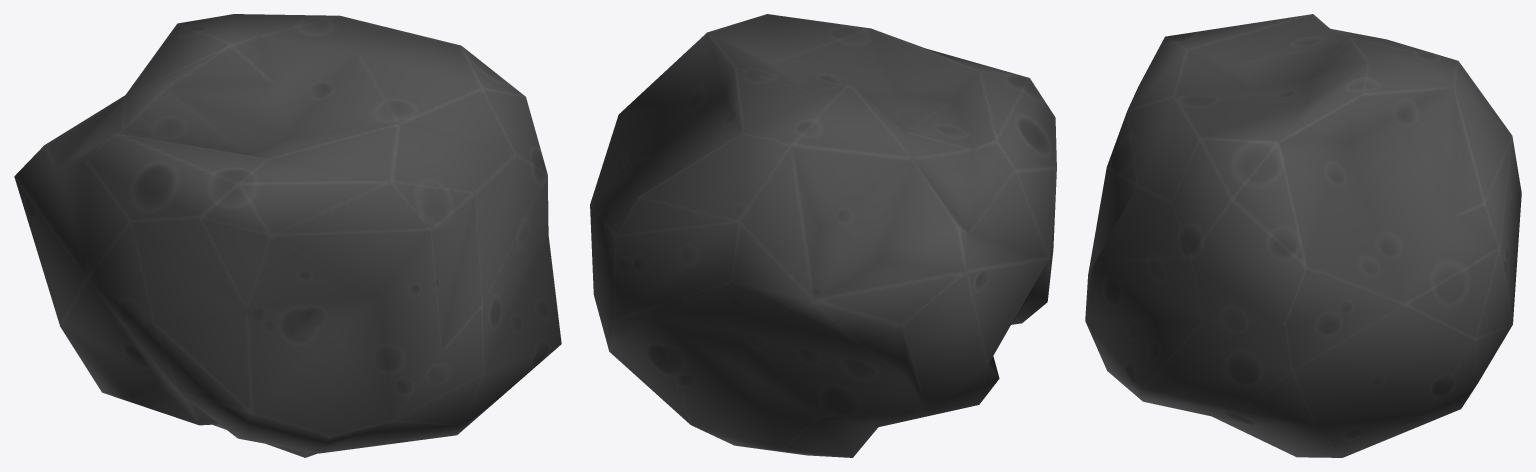
File: Asteroid3.glb
3 views of the same model, side by side, from view 1: azimuth 30°, elevation 25°; view 2: azimuth 150°, elevation 25°; view 3: azimuth 270°, elevation 25° (orthographic). The views are drawn at different scales.
Visible parts, largest first — view 1: asteroid; view 2: asteroid; view 3: asteroid.
Boxes of the visible parts, left/top/right/bottom form: asteroid: left=14, top=14, right=561, bottom=457; asteroid: left=590, top=14, right=1056, bottom=457; asteroid: left=1085, top=14, right=1521, bottom=457.
Size of the model in its own units: 1.64 by 1.38 by 1.48.
Materials: 1 (1 with a texture image).
